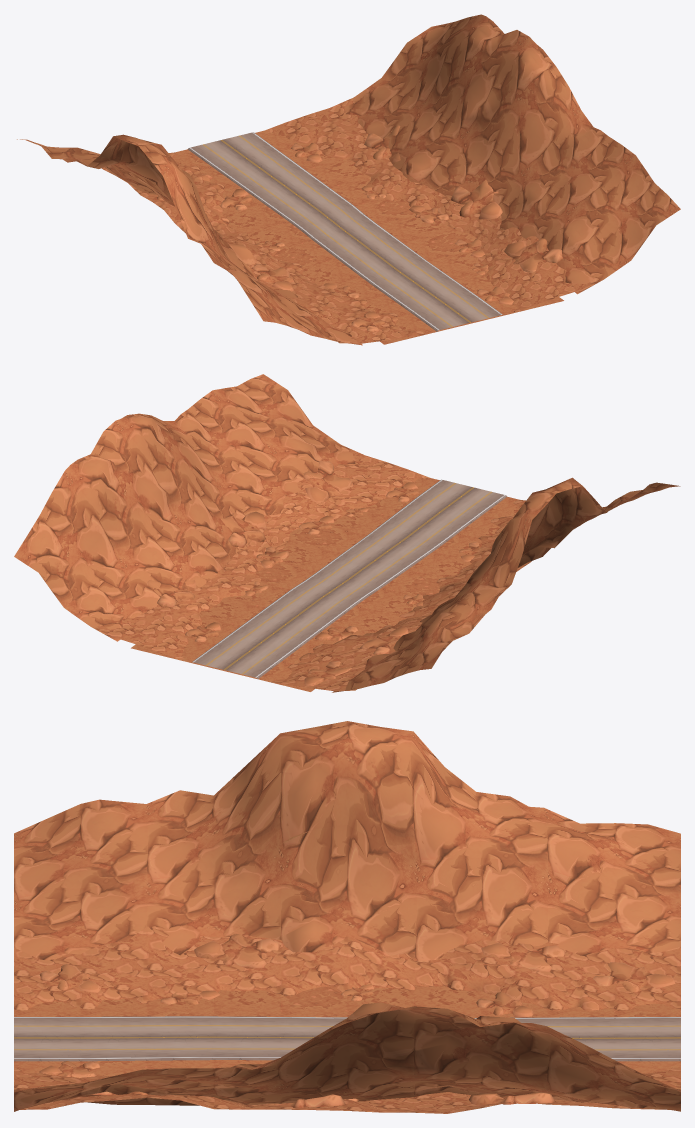
The model's file is Desert_Original1.FBX.
3 views of the same model, one above another, from view 1: azimuth 30°, elevation 25°; view 2: azimuth 150°, elevation 25°; view 3: azimuth 270°, elevation 25° (orthographic). The views are drawn at different scales.
Parts seen in each view (by area): view 1: Desert_Original1_L, Desert_Original1_R, Desert_Original1_Road; view 2: Desert_Original1_L, Desert_Original1_R, Desert_Original1_Road; view 3: Desert_Original1_R, Desert_Original1_L, Desert_Original1_Road.
Part boxes in pixels (bbox=[...]): Desert_Original1_L: bbox=[255, 14, 680, 323]; Desert_Original1_R: bbox=[17, 134, 470, 345]; Desert_Original1_Road: bbox=[188, 132, 502, 331]; Desert_Original1_L: bbox=[14, 374, 439, 670]; Desert_Original1_R: bbox=[224, 477, 680, 692]; Desert_Original1_Road: bbox=[192, 479, 507, 678]; Desert_Original1_R: bbox=[14, 721, 680, 1017]; Desert_Original1_L: bbox=[14, 1002, 680, 1113]; Desert_Original1_Road: bbox=[14, 1016, 680, 1061].
Bounding box in the file's own units: 49.07 × 15.31 × 50.
2 materials, 2 textured.
